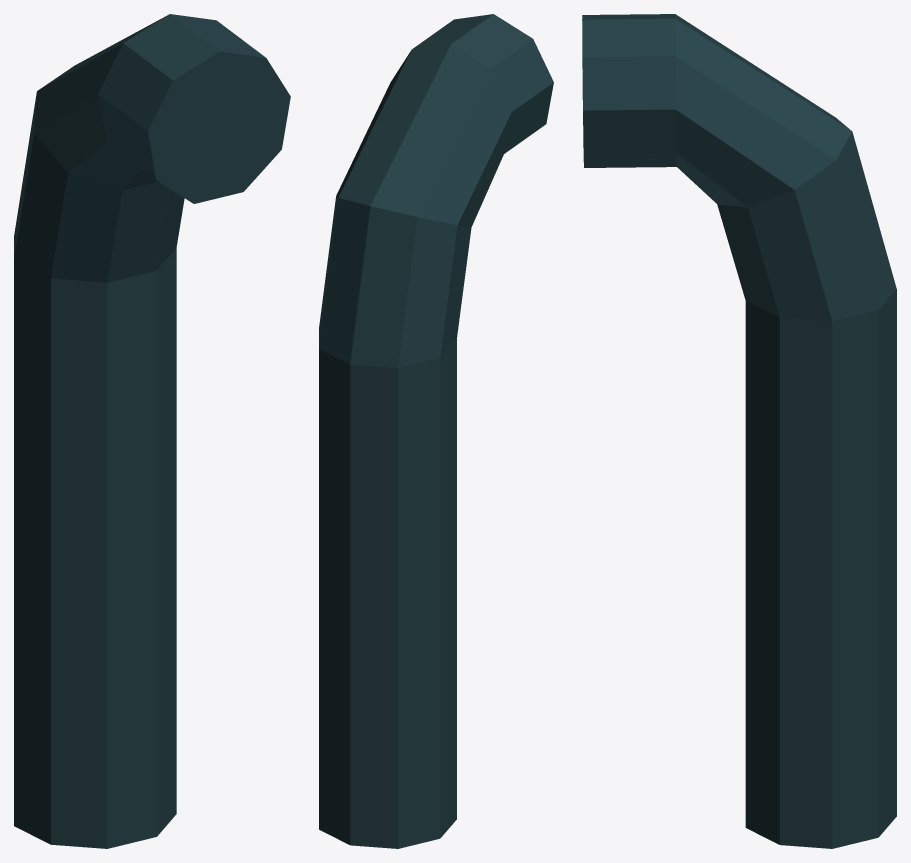
File: PipeE_Hangar.fbx
The picture shows the model from 3 angles, left to right: view 1: azimuth 30°, elevation 25°; view 2: azimuth 150°, elevation 25°; view 3: azimuth 270°, elevation 25°; orthographic projection. The views are drawn at different scales.
Parts seen in each view (by area): view 1: Pipe E; view 2: Pipe E; view 3: Pipe E.
Part boxes in pixels (bbox=[...]): Pipe E: bbox=[14, 14, 290, 848]; Pipe E: bbox=[319, 14, 553, 848]; Pipe E: bbox=[582, 14, 896, 848].
Bounding box in the file's own units: 109 × 624 × 223.
